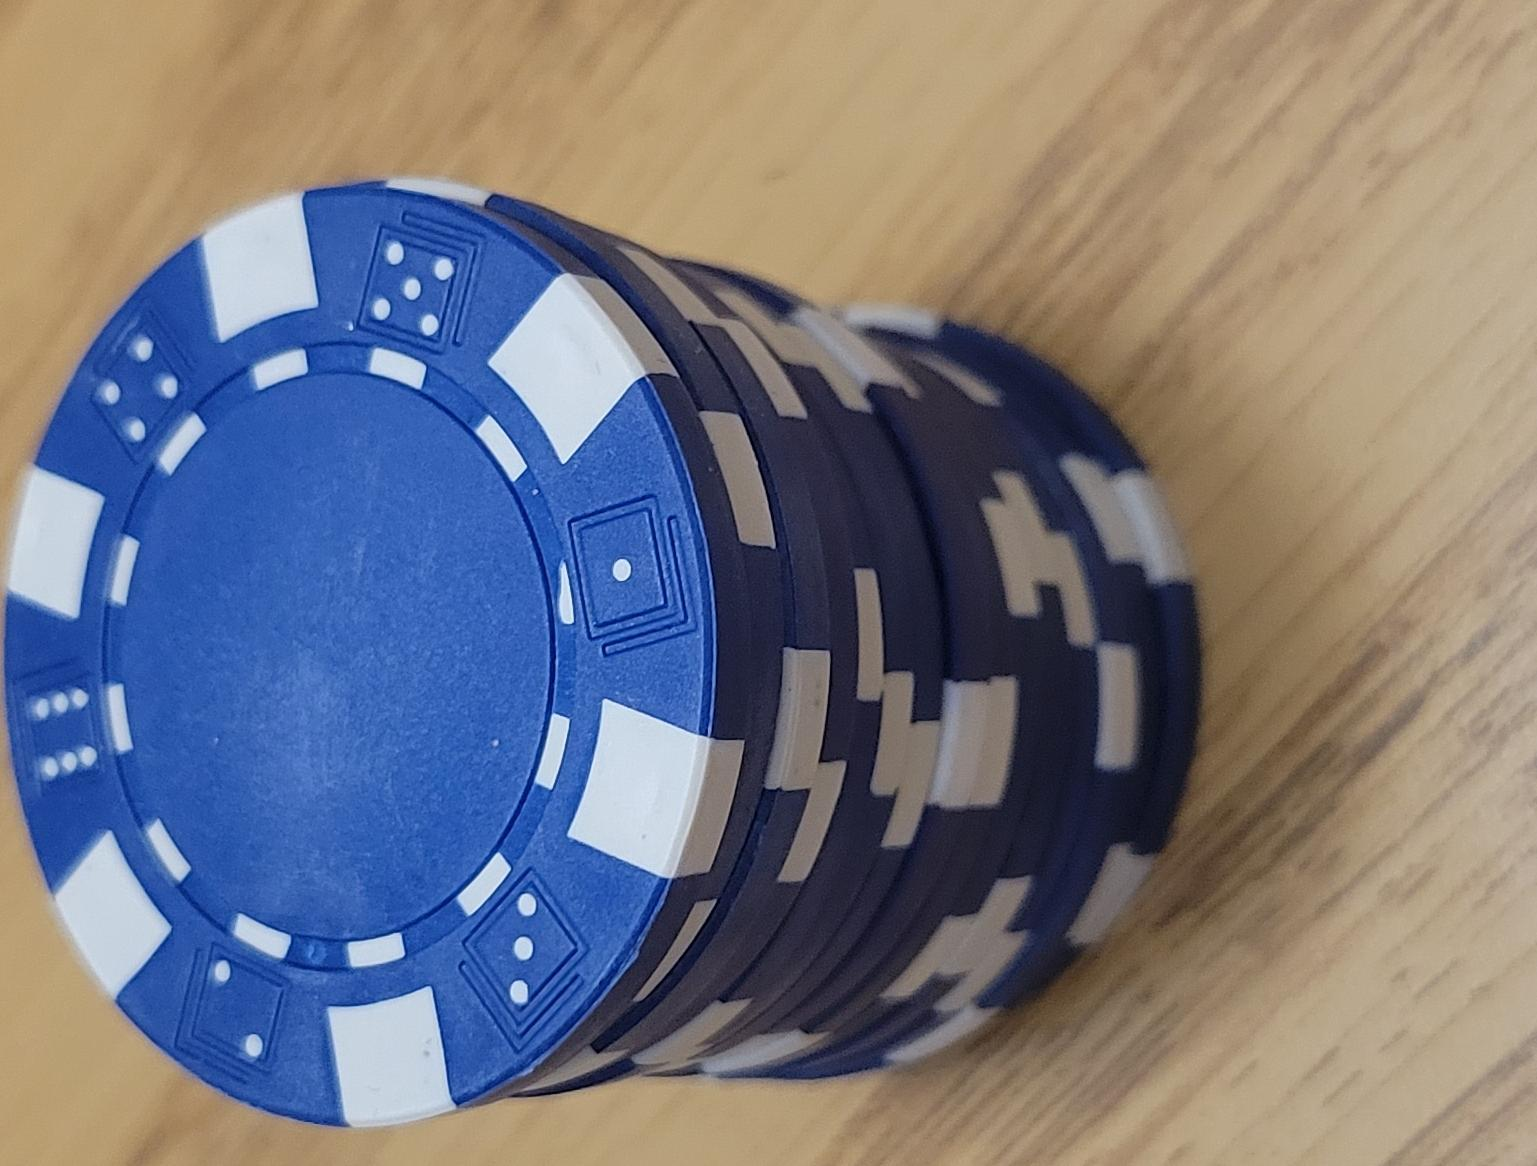Chip: (1, 280, 836, 1166)
